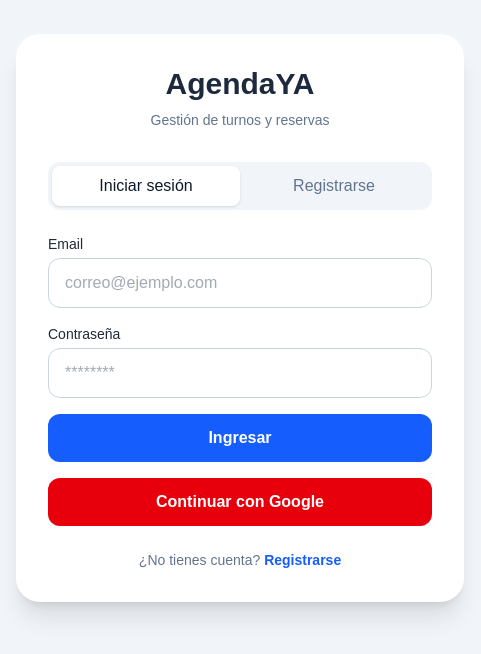
Test case: AgendaYA - M01 Autenticación › Debe mostrar un error al ingresar credenciales inválidas
The width and height of the screenshot is (481, 654).
Step 1. Type "correo_falso@agendaya.com" into the field with test id "login-email" → coordinates (240, 283), box left=48, top=258, right=432, bottom=308
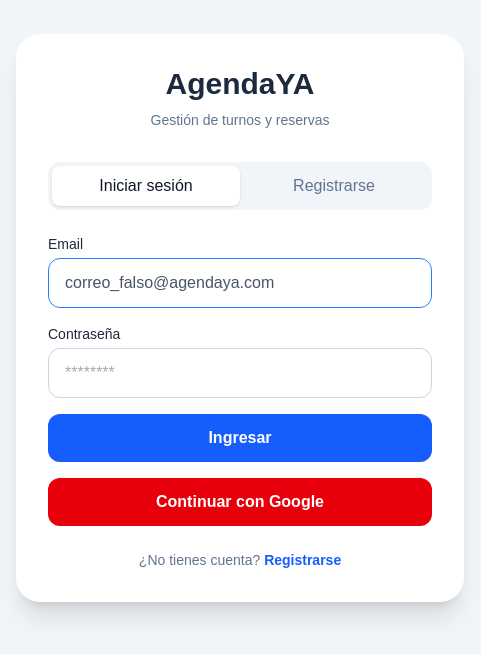
Step 2. Type "ClaveEquivocada" into the password field with test id "login-password" → coordinates (240, 373), box left=48, top=348, right=432, bottom=398
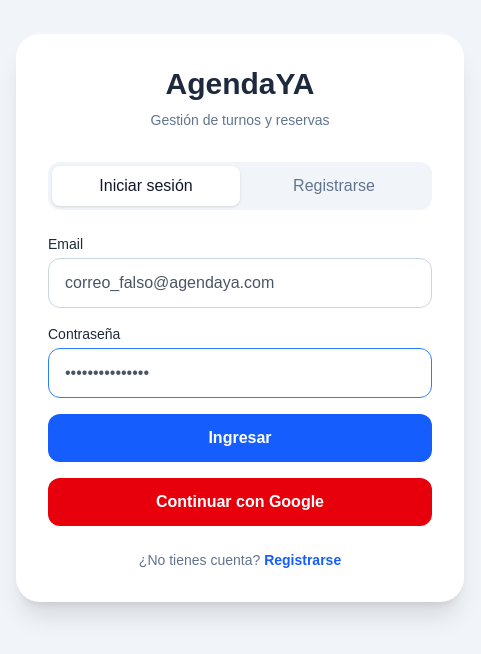
Note: Enviar el formulario
Step 3. Click the button with test id "submit-login" → coordinates (240, 438), box left=48, top=414, right=432, bottom=462
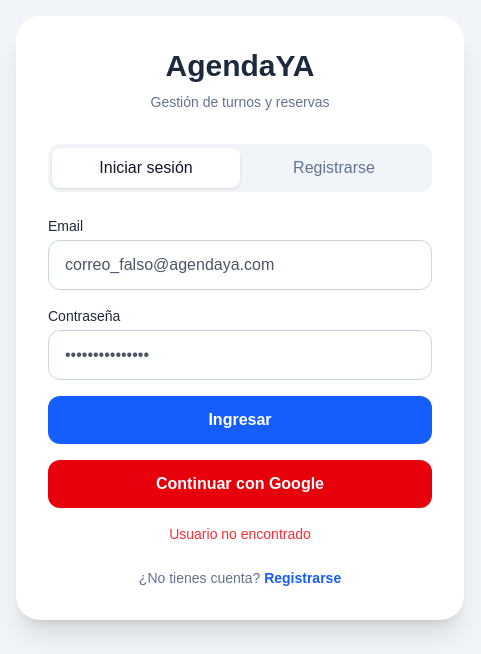
Expected: the element with test id "login-error" is not empty
Result: the text "Usuario no encontrado" is shown at left=169, top=526, right=311, bottom=542
